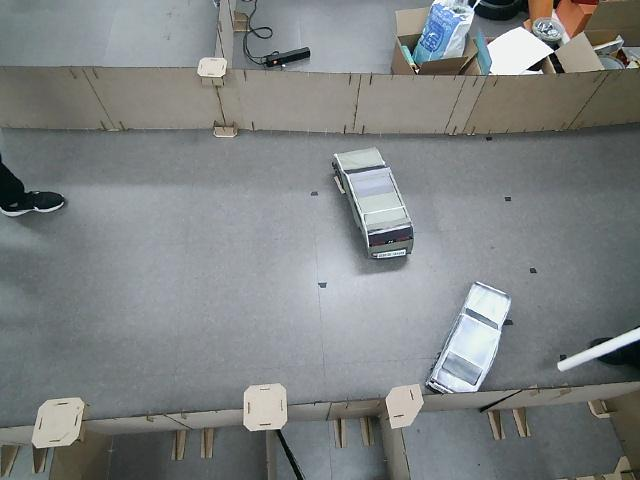car: (424, 279, 514, 407), (329, 144, 416, 262)
